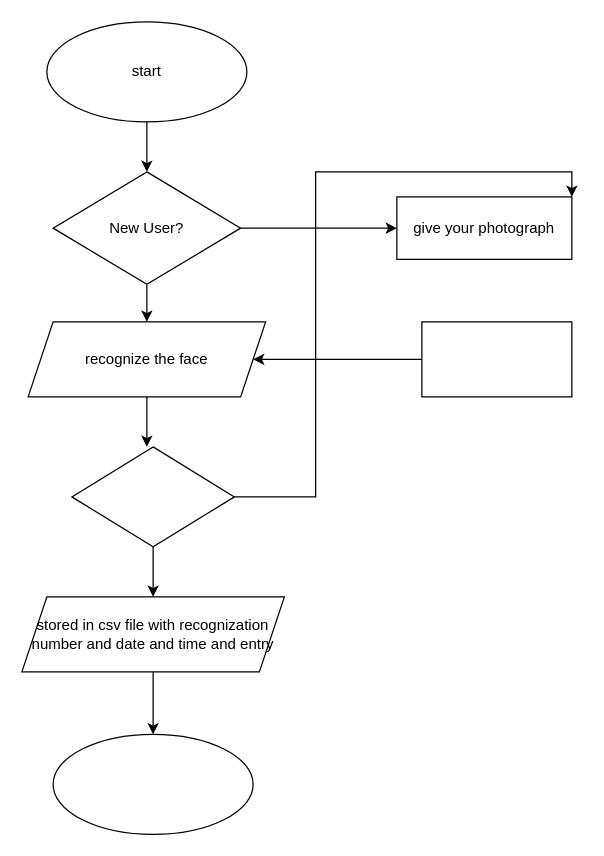
This 604x856 diagram has some shape labels left out. The centre of each missing label's shape, as x and y in pixels:
end: the point at 152,783
face recognized: the point at 152,496
